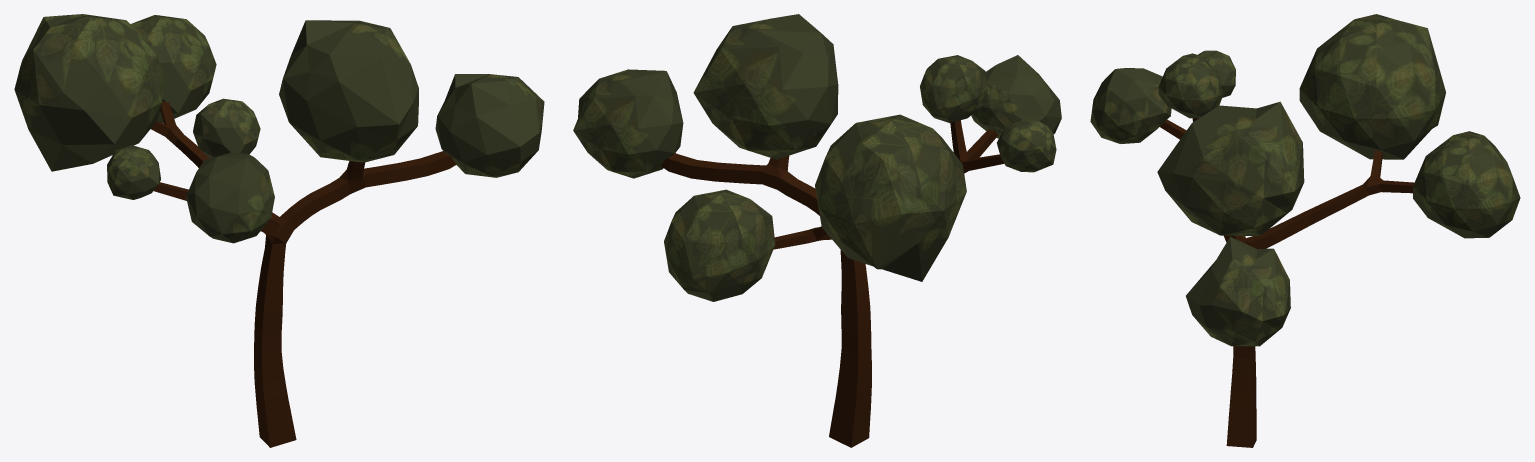
Rendered from tree.obj.
The picture shows the model from 3 angles, left to right: view 1: azimuth 30°, elevation 25°; view 2: azimuth 150°, elevation 25°; view 3: azimuth 270°, elevation 25°; orthographic projection. The views are drawn at different scales.
Visible parts, largest first — view 1: Icosphere.001, Icosphere.005, Plane, Icosphere.006, Icosphere.004, Icosphere, Icosphere.002, Icosphere.003; view 2: Icosphere.001, Icosphere.005, Plane, Icosphere, Icosphere.006, Icosphere.004, Icosphere.002, Icosphere.003; view 3: Icosphere.001, Icosphere.005, Icosphere, Icosphere.006, Plane, Icosphere.004, Icosphere.002, Icosphere.003.
Part boxes in pixels (bbox=[...]): Icosphere.001: bbox=[14, 14, 166, 171]; Icosphere.005: bbox=[279, 20, 418, 162]; Plane: bbox=[151, 101, 456, 447]; Icosphere.006: bbox=[435, 74, 544, 177]; Icosphere.004: bbox=[186, 152, 274, 243]; Icosphere: bbox=[131, 15, 216, 123]; Icosphere.002: bbox=[193, 98, 260, 157]; Icosphere.003: bbox=[107, 145, 160, 199]; Icosphere.001: bbox=[815, 114, 966, 281]; Icosphere.005: bbox=[693, 14, 838, 159]; Plane: bbox=[660, 120, 1004, 447]; Icosphere: bbox=[664, 189, 775, 301]; Icosphere.006: bbox=[573, 69, 683, 178]; Icosphere.004: bbox=[971, 55, 1061, 138]; Icosphere.002: bbox=[920, 55, 987, 122]; Icosphere.003: bbox=[997, 119, 1056, 172]; Icosphere.001: bbox=[1299, 14, 1445, 159]; Icosphere.005: bbox=[1157, 101, 1304, 235]; Icosphere: bbox=[1413, 131, 1520, 238]; Icosphere.006: bbox=[1186, 236, 1290, 346]; Plane: bbox=[1160, 118, 1414, 447]; Icosphere.004: bbox=[1090, 68, 1171, 143]; Icosphere.002: bbox=[1158, 53, 1223, 118]; Icosphere.003: bbox=[1198, 50, 1235, 97].
Bounding box in the file's own units: 9.13 × 7.67 × 8.1.
